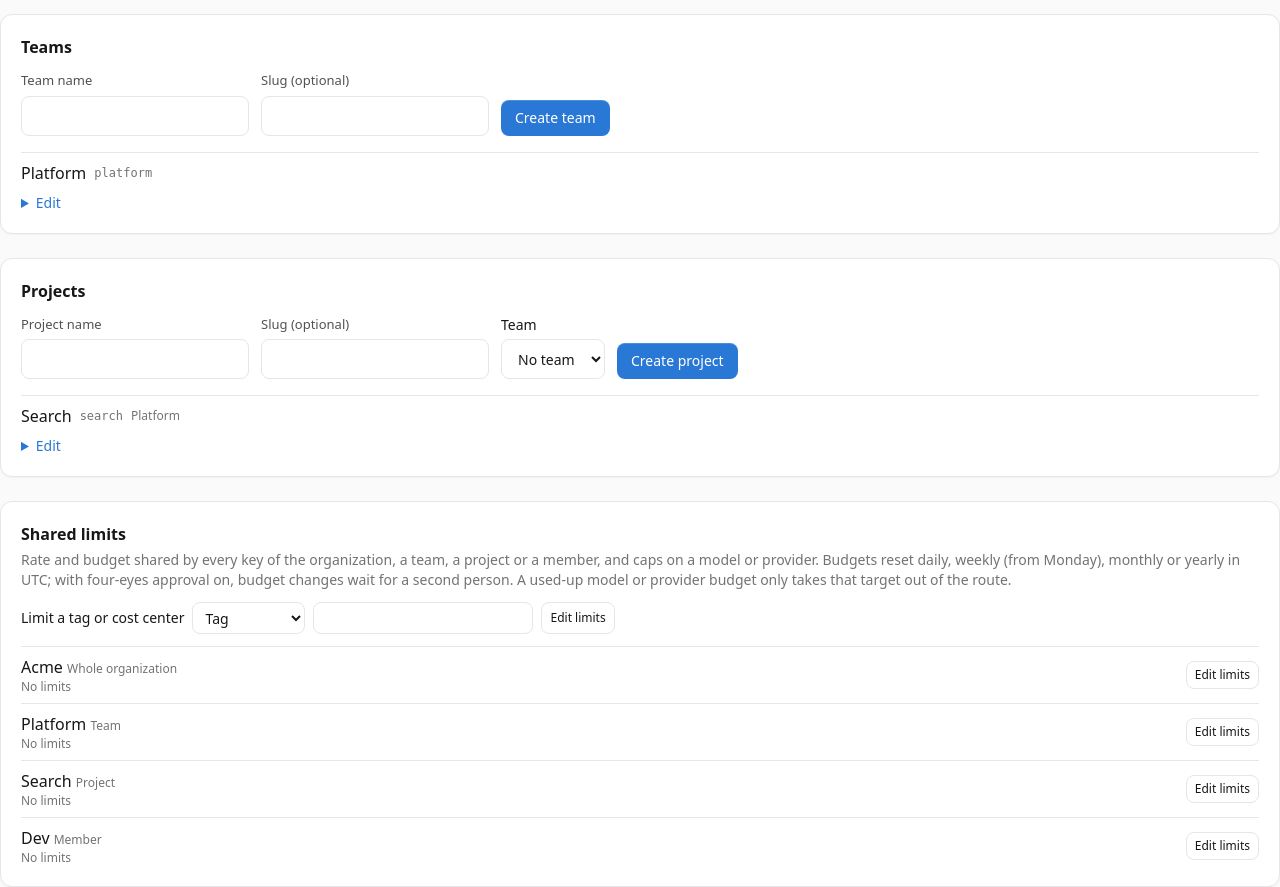
Scenario: team and project limits on the organization page (card 25.5) › sets a project monthly budget with rate limits and thresholds from the UI
(page scrolled)
Click the button with aria-label "Edit limits Search".
click(1222, 789)  # box [1186, 775, 1259, 803]
(page scrolled)
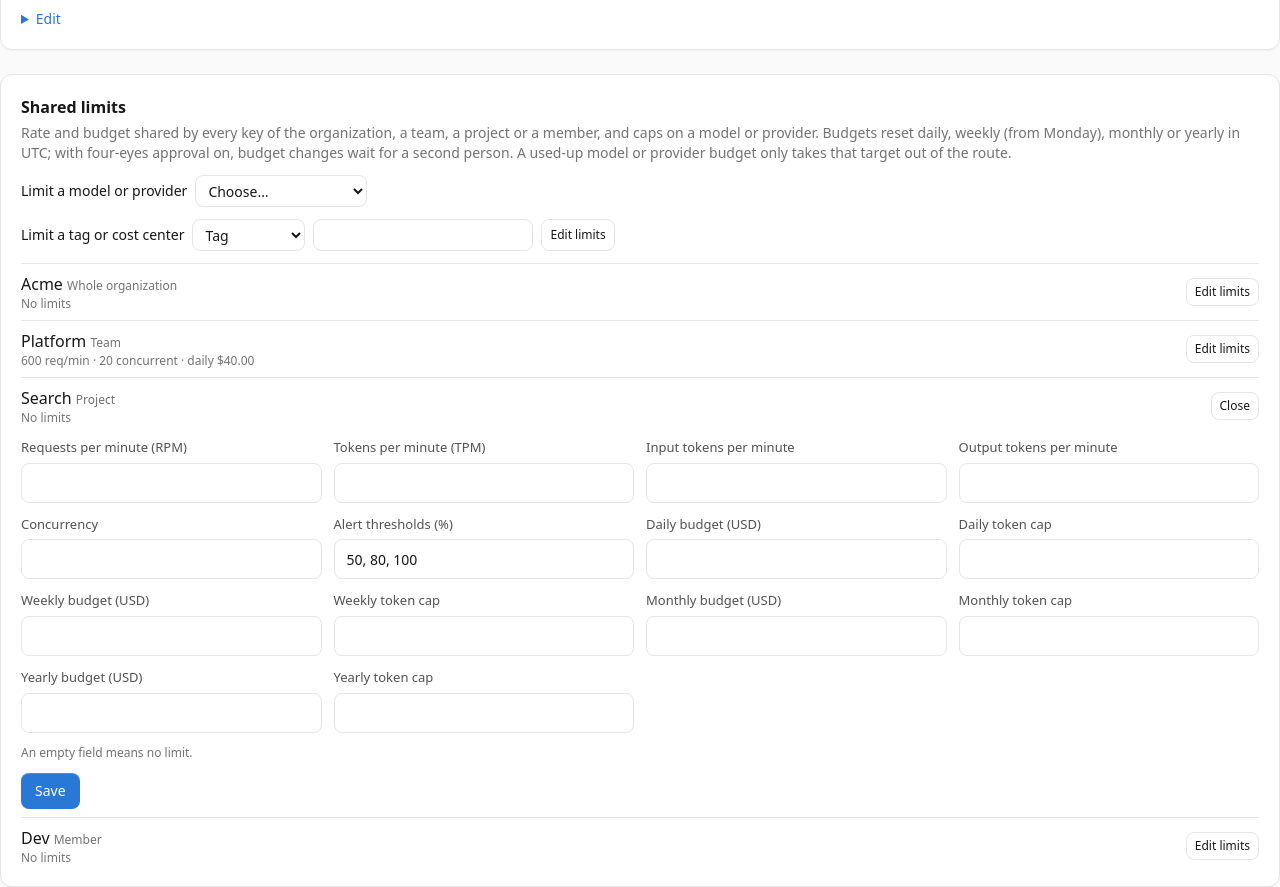
Type "25.50" into the field labelled "Monthly budget (USD)".
click(796, 636); type("25.50")  # box [646, 616, 946, 656]
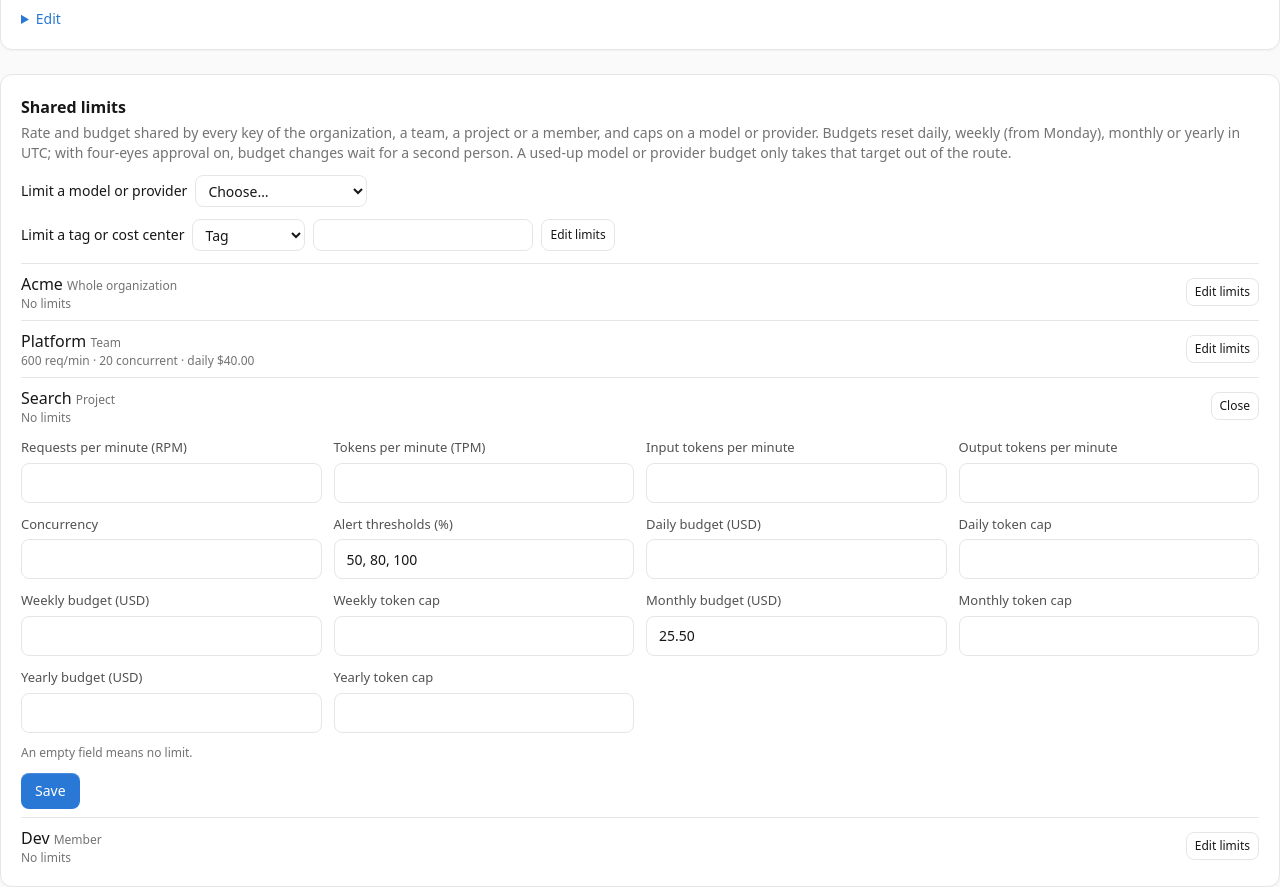
Type "120" into the field labelled "Requests per minute (RPM)".
click(171, 483); type("120")  # box [21, 463, 322, 503]
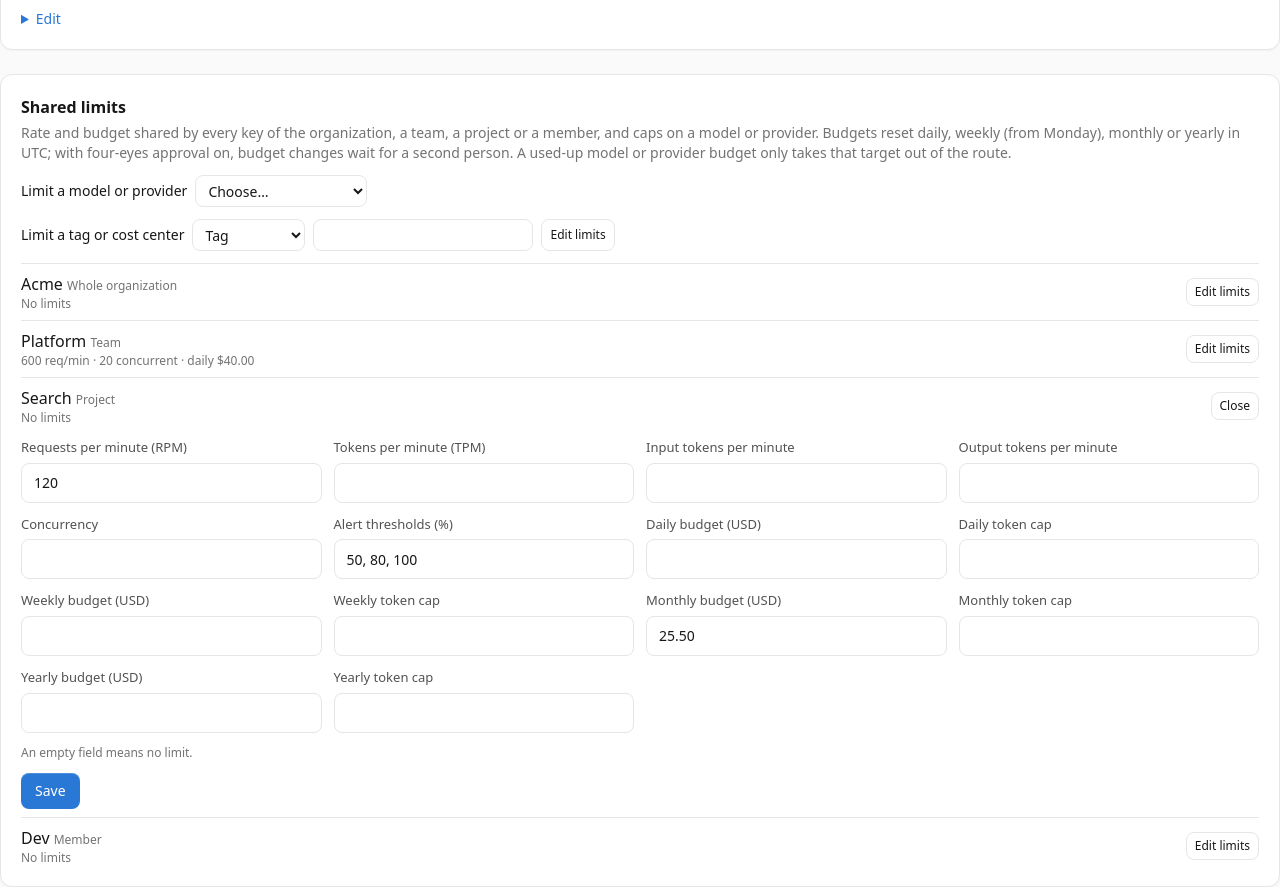
Type "50000" into the field labelled "Tokens per minute (TPM)".
click(484, 483); type("50000")  # box [334, 463, 634, 503]
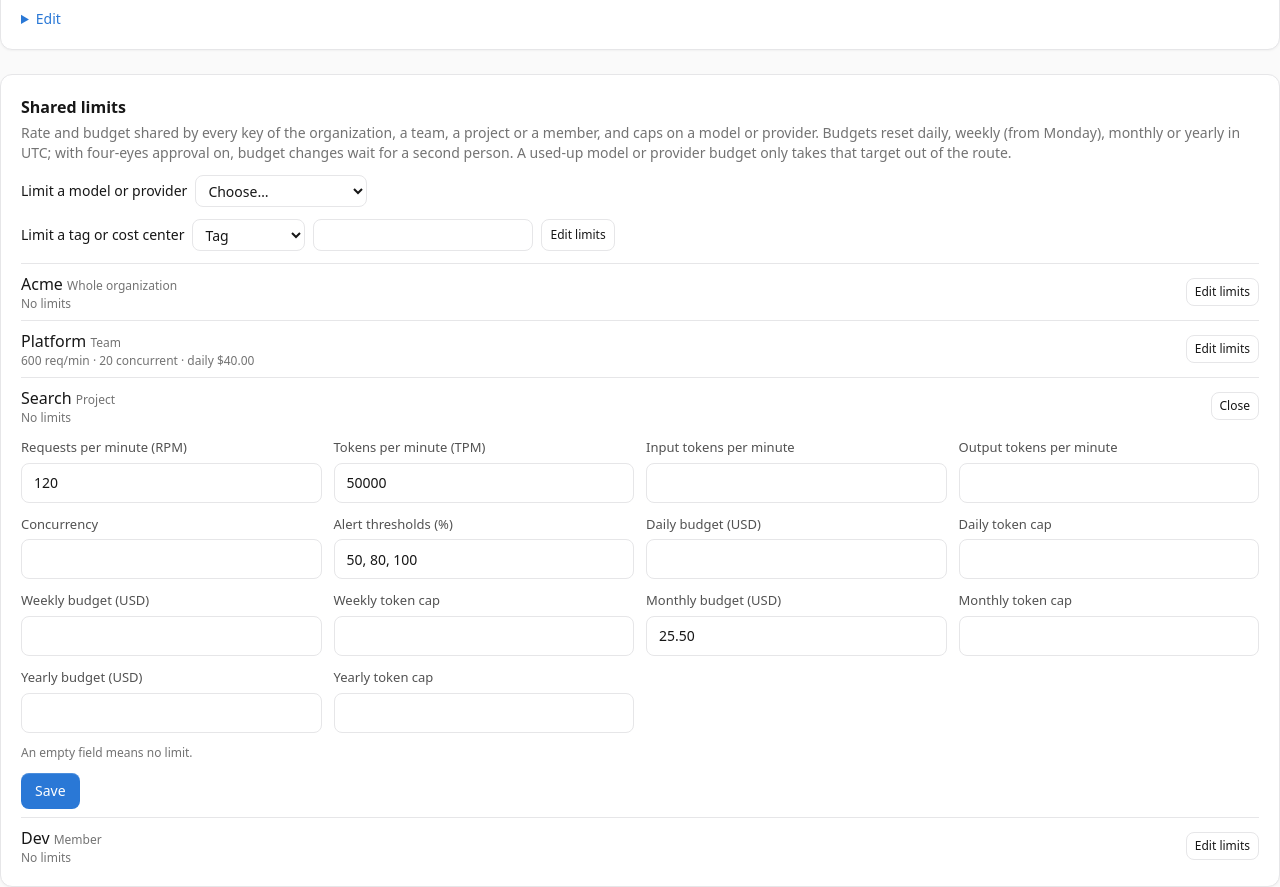
Replace the text in the field labelled "Alert thresholds (%)" with "90, 50" at {"x": 484, "y": 559}, box [334, 539, 634, 579]
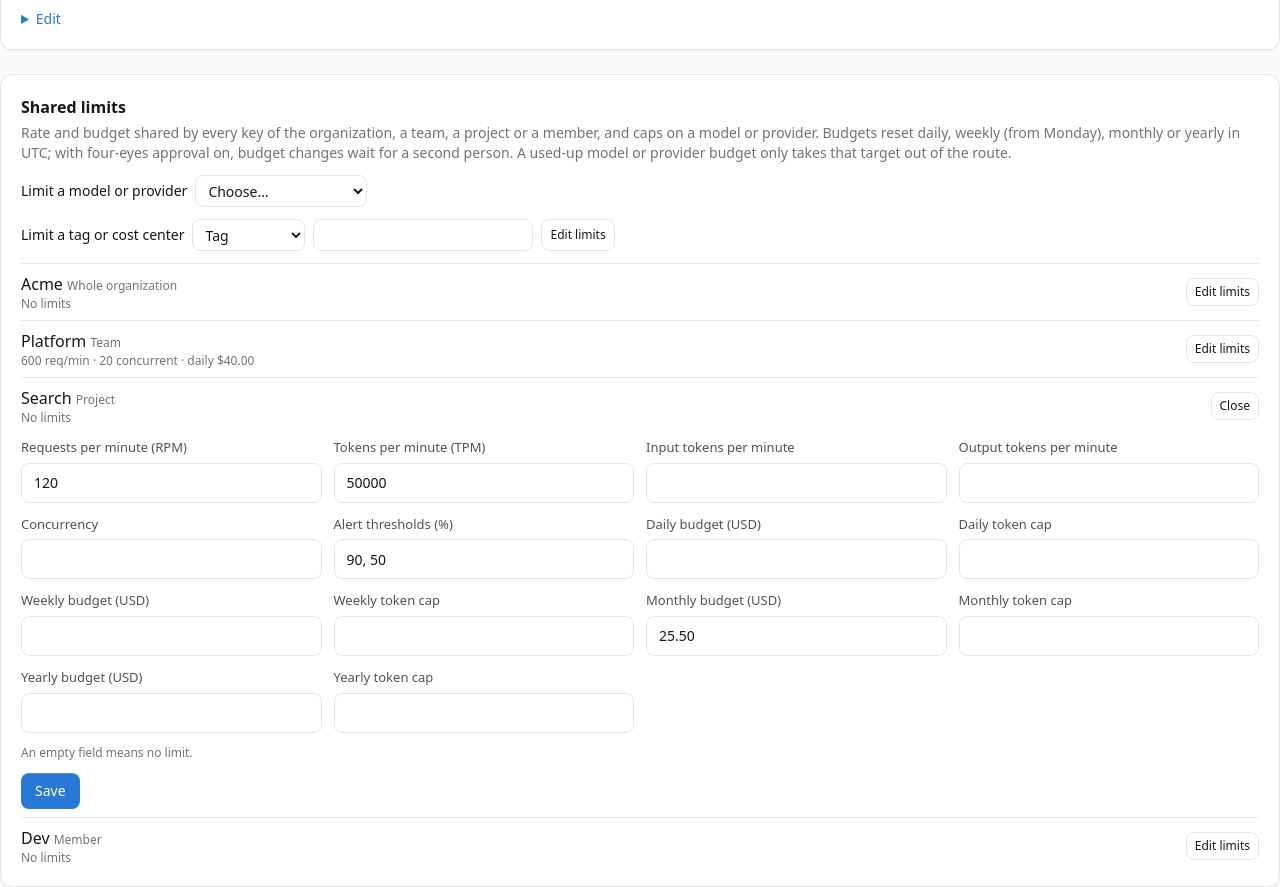
Click the button "Save".
click(50, 790)  # box [21, 772, 80, 808]
(page scrolled)
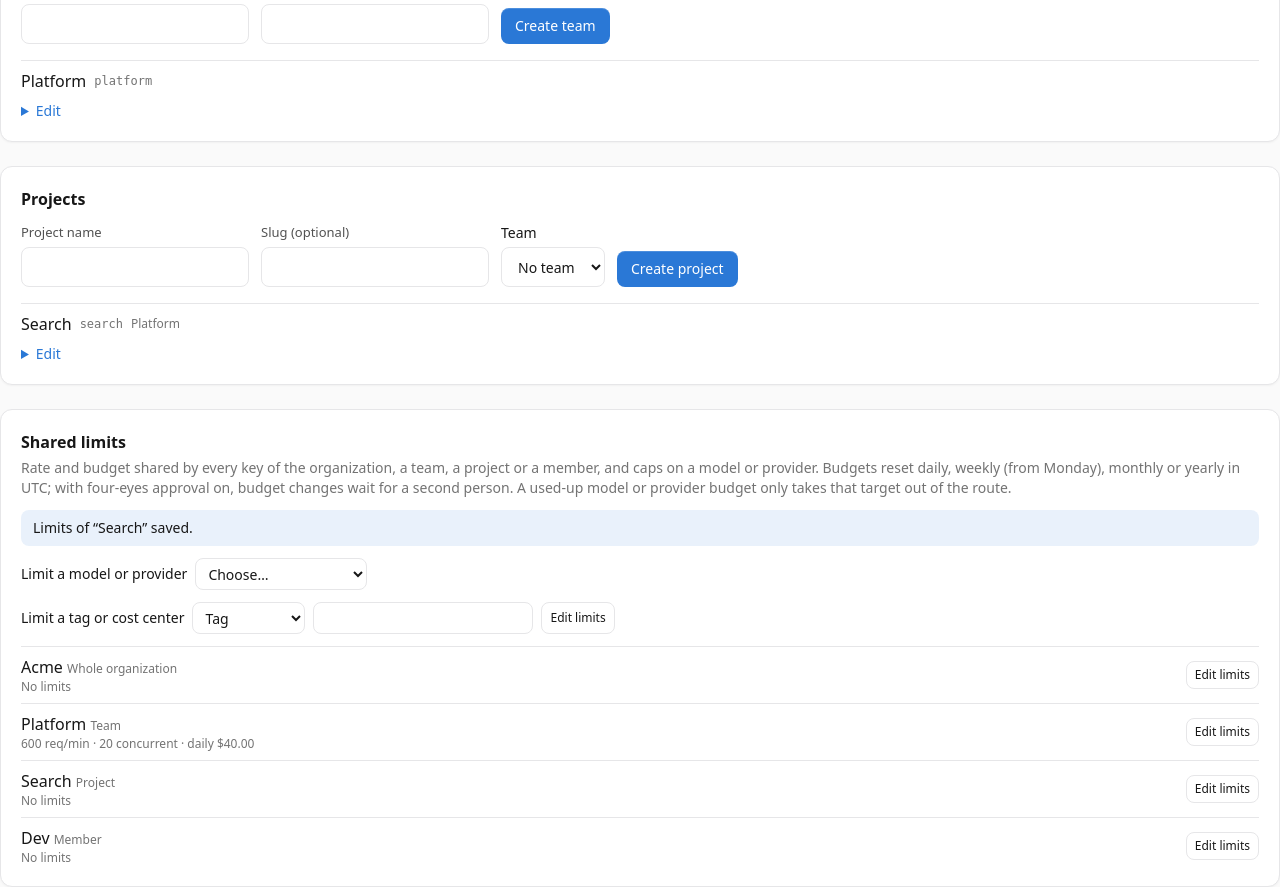
Result: the message reads "Limits of “Search” saved." at [33, 518, 193, 537]
